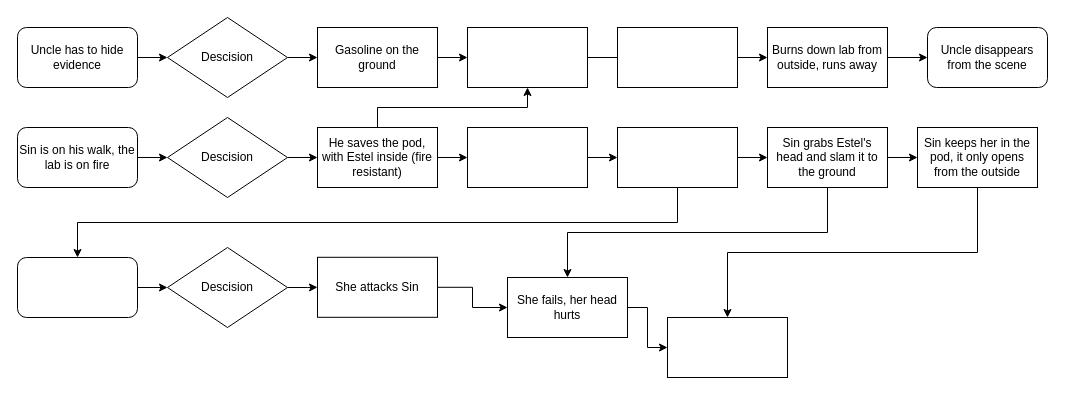
The diagram is 1065 pixels wide and 395 high, and some of its shapes have lost their labels. The box of each missing label's shape, as (x1, y1, x2, y2) in pixels:
1 week later, Sin opens the pod for the first time: (616, 126, 738, 188)
Brings pod to his house: (466, 126, 588, 188)
Estel falls out of the pod and is already hostile: (16, 256, 138, 318)
Estel tries to get out: (666, 316, 788, 378)
Keeps Estel in the pod to erase her memories: (466, 26, 588, 88)
Smashes up computer with a crowbar, and hard drive: (616, 26, 738, 88)
